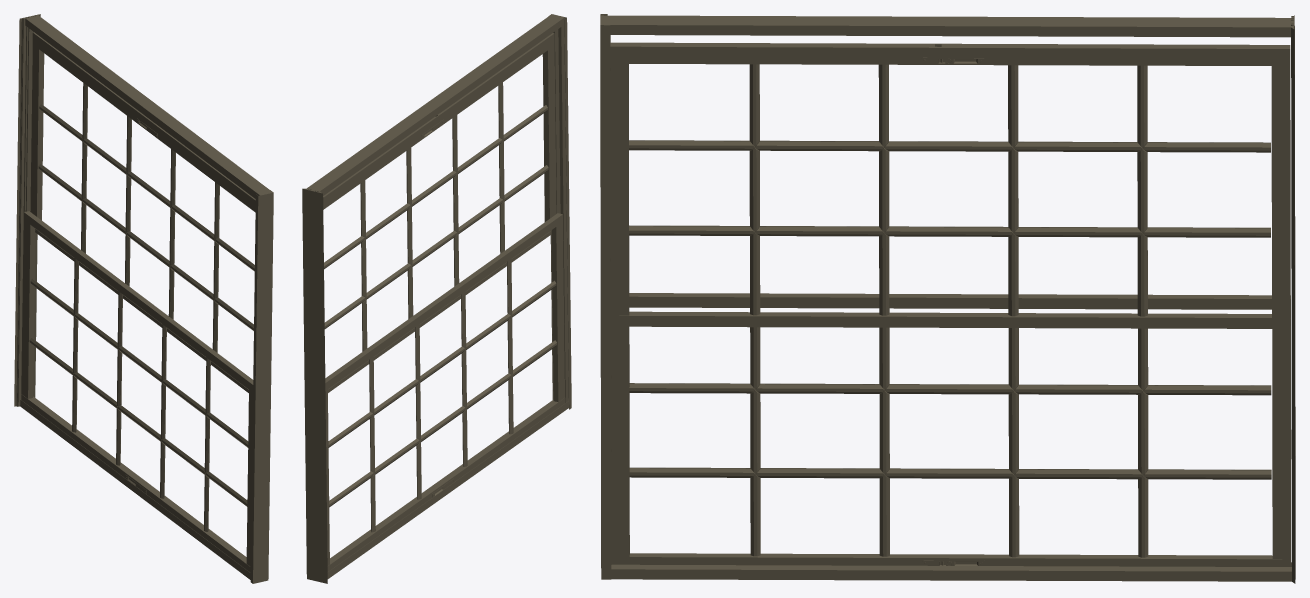
File: window1.glb
3 views of the same model, side by side, from view 1: azimuth 30°, elevation 25°; view 2: azimuth 150°, elevation 25°; view 3: azimuth 270°, elevation 25° (orthographic). The views are drawn at different scales.
Visible parts, largest first — view 1: Material2.106, Material2.103, Material2, Material2.205, Material2.104, Material2.222; view 2: Material2.104, Material2.106, Material2, Material2.205, Material2.103, Material2.222; view 3: Material2, Material2.106, Material2.205, Material2.222, Material2.103, Material2.104, Material2.059, Material2.042, Material2.056, Material2.168, Material2.064, Material2.171 (+30 smaller).
Boxes of the visible parts, left/top/right/bottom form: Material2.106: left=21, top=211, right=253, bottom=572; Material2.103: left=250, top=190, right=273, bottom=583; Material2: left=30, top=32, right=255, bottom=392; Material2.205: left=25, top=15, right=272, bottom=198; Material2.104: left=14, top=14, right=40, bottom=406; Material2.222: left=20, top=396, right=250, bottom=579; Material2.104: left=302, top=188, right=327, bottom=583; Material2.106: left=325, top=213, right=565, bottom=571; Material2: left=323, top=33, right=556, bottom=392; Material2.205: left=307, top=14, right=564, bottom=195; Material2.103: left=548, top=14, right=571, bottom=409; Material2.222: left=327, top=399, right=568, bottom=578; Material2: left=610, top=42, right=1290, bottom=328; Material2.106: left=611, top=293, right=1291, bottom=566; Material2.205: left=600, top=15, right=1291, bottom=37; Material2.222: left=611, top=562, right=1291, bottom=581; Material2.103: left=600, top=14, right=611, bottom=579; Material2.104: left=1291, top=15, right=1295, bottom=583; Material2.059: left=1142, top=142, right=1270, bottom=152; Material2.042: left=1013, top=227, right=1142, bottom=237; Material2.056: left=755, top=226, right=884, bottom=236; Material2.168: left=1143, top=385, right=1271, bottom=395; Material2.064: left=884, top=141, right=1013, bottom=151; Material2.171: left=884, top=384, right=1013, bottom=394.
Size of what is drawn, in the model's own units: 2.21 by 29.31 by 33.05.
